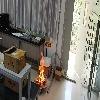fire: (36, 51, 45, 87)
